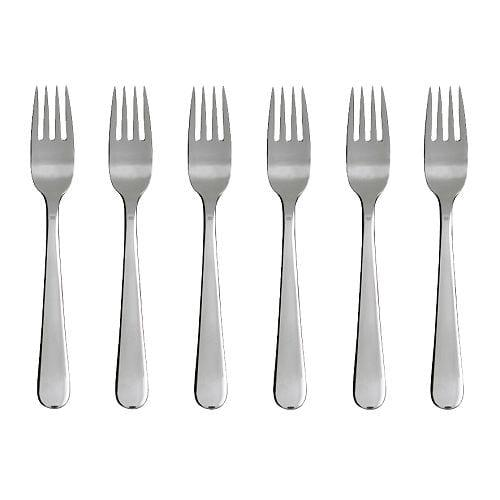Fork: (423, 85, 469, 411), (29, 85, 75, 410), (107, 86, 153, 411), (187, 85, 232, 410), (345, 86, 390, 411), (266, 86, 311, 410)
